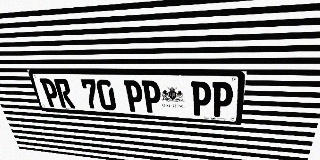0: (95, 79, 117, 111)
7: (79, 79, 101, 110)
P: (211, 82, 234, 118), (191, 81, 212, 116), (141, 80, 162, 113), (123, 80, 144, 112), (39, 78, 61, 107)
R: (53, 79, 75, 108)
